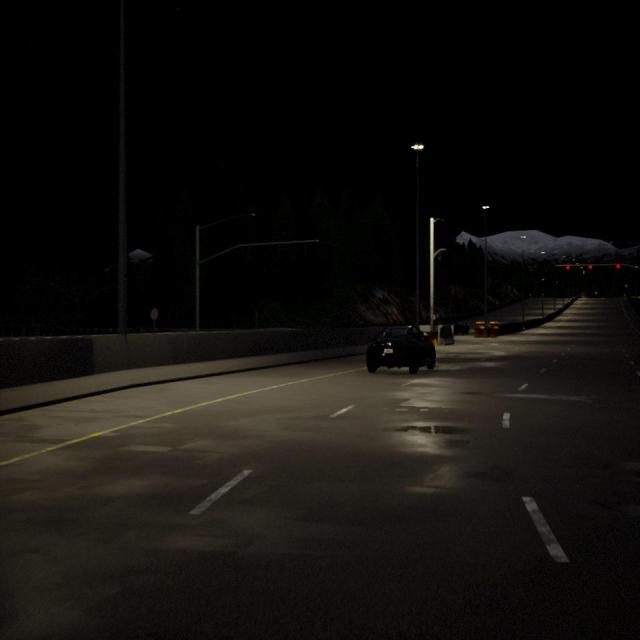Traffic_Signs: (151, 309, 158, 319)
Vehicle: (366, 321, 437, 374)
traffic_light: (616, 264, 620, 269), (566, 266, 570, 270), (588, 265, 592, 269)
